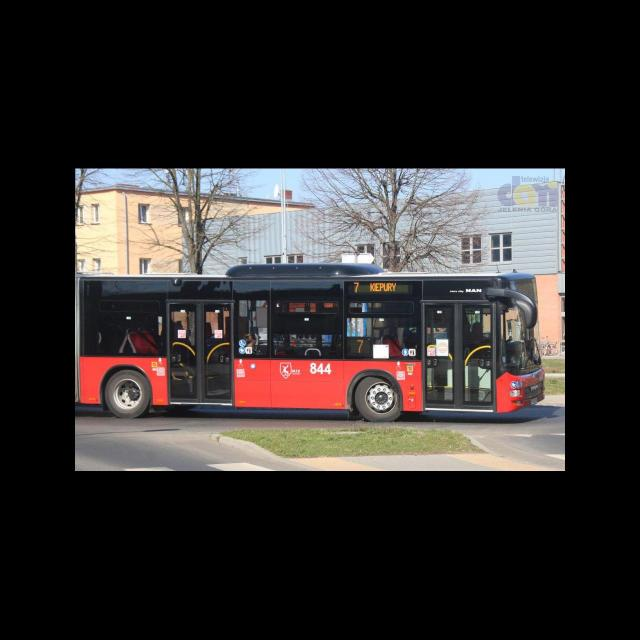Bus: (76, 263, 546, 422)
